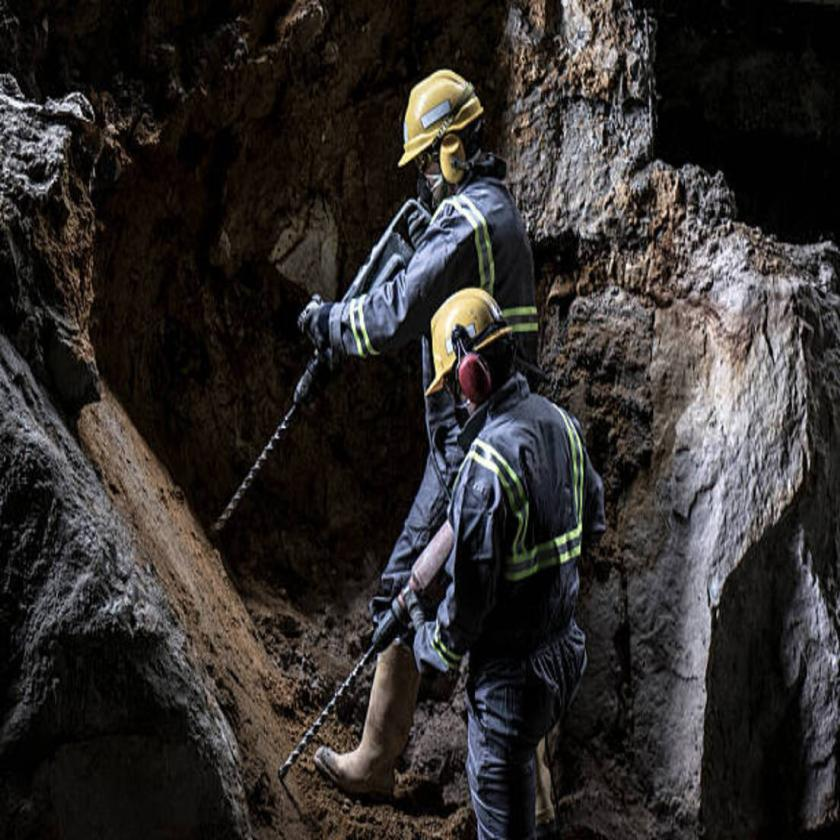Con_casco: (418, 286, 516, 424), (396, 69, 491, 204)
